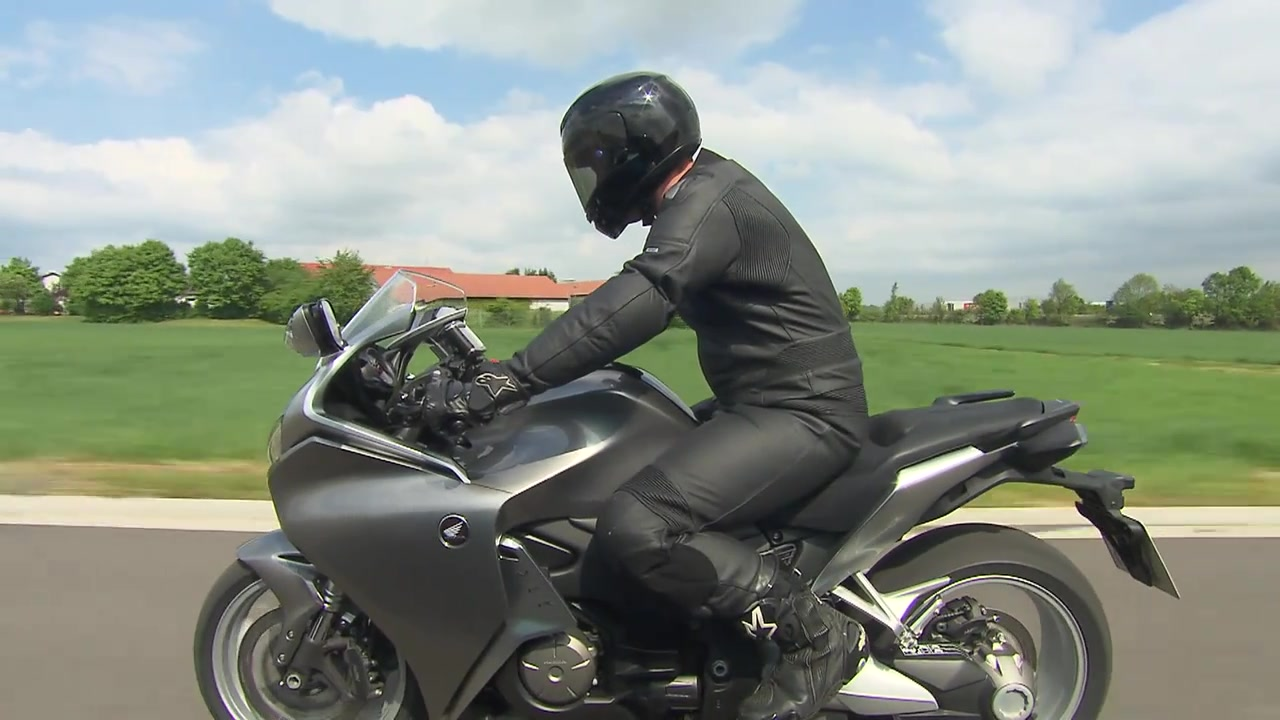motorbike: (188, 272, 1181, 720)
